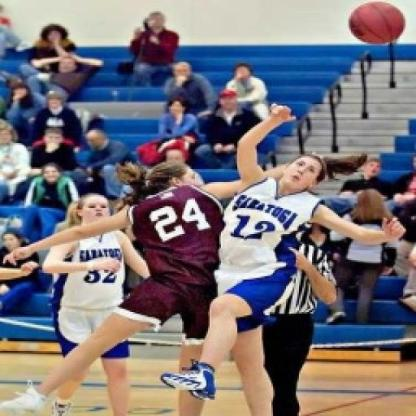basketball: (344, 0, 411, 49)
